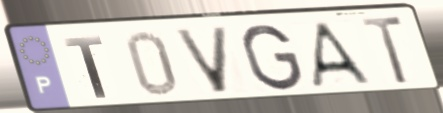0: (123, 29, 182, 99)
A: (309, 20, 376, 90)
G: (239, 22, 305, 93)
T: (359, 14, 413, 87), (61, 34, 110, 101)
V: (171, 25, 232, 96)
